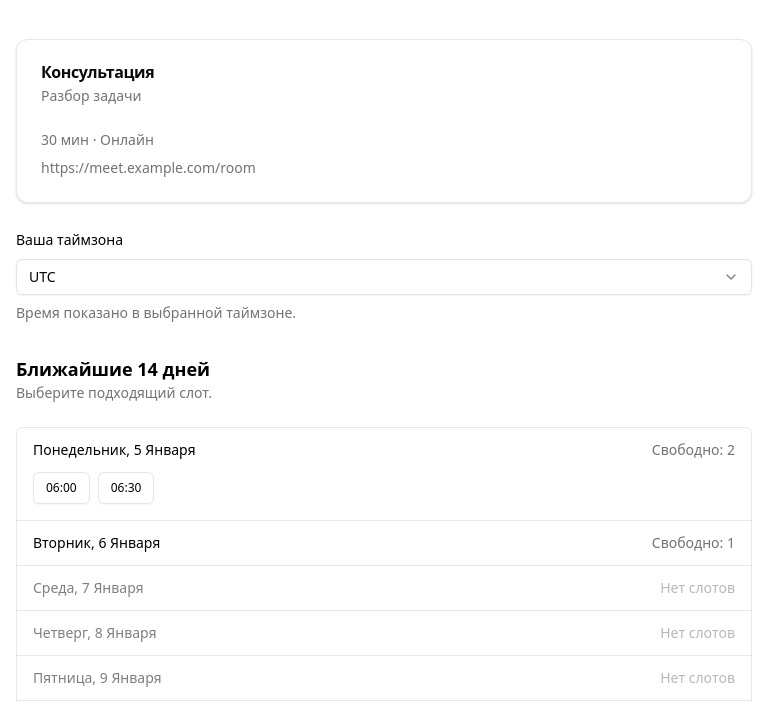
PublicBookingPage › shows a conflict message and refreshes slots
Click the button "06:00": [61, 488] box [33,472,90,504]
(page scrolled)
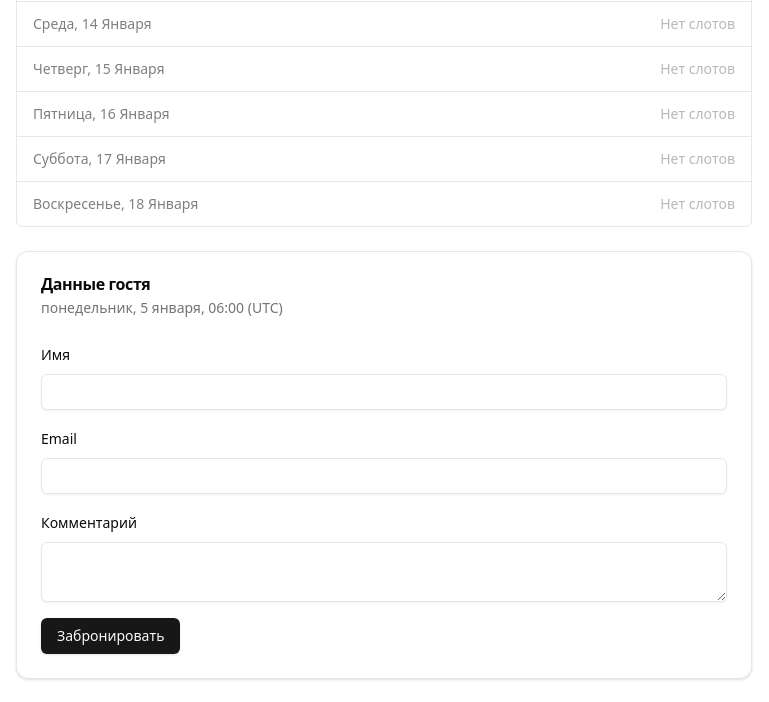
In the field labelled "Имя": [384, 392] box [41,374,727,410], type "Иван"
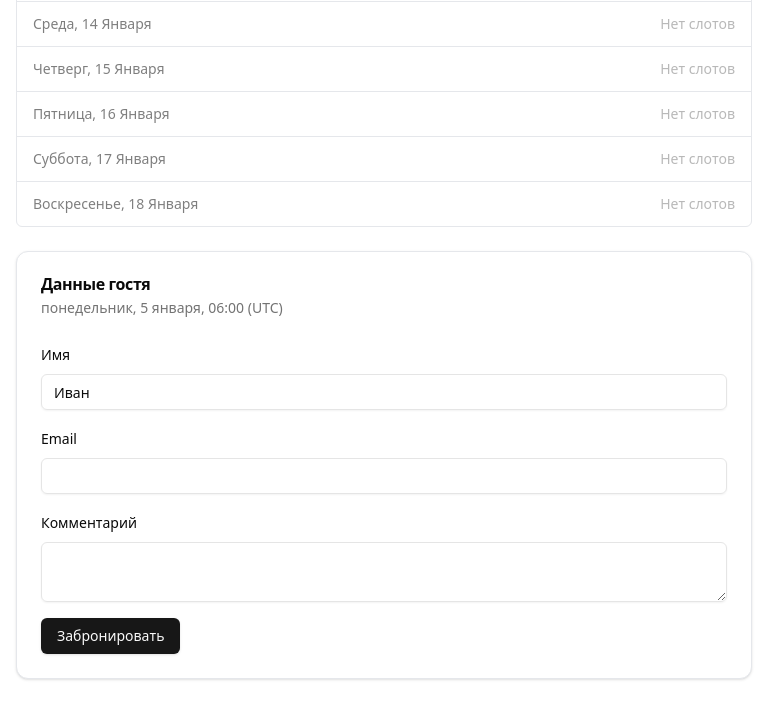
In the field labelled "Email": [384, 476] box [41,458,727,494], type "guest@example.com"
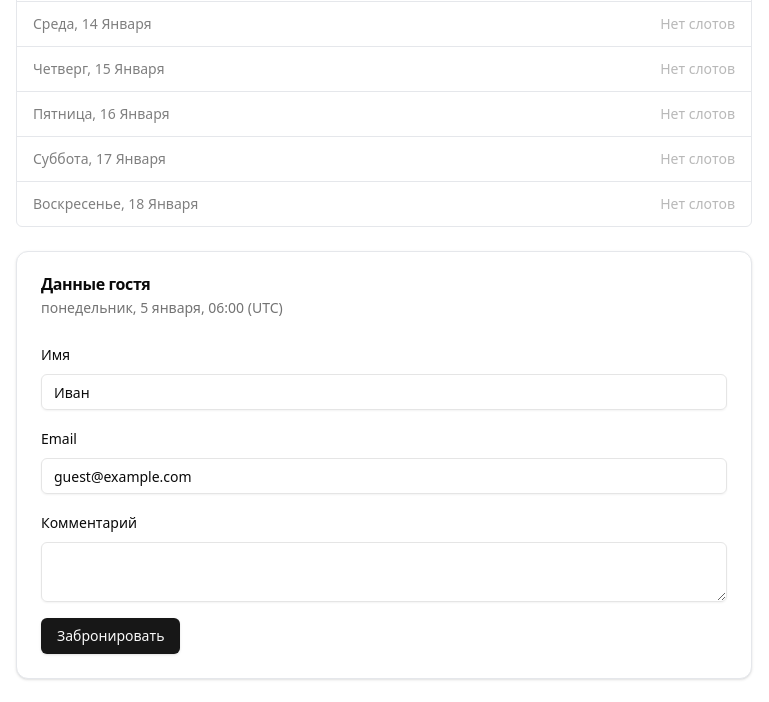
Click the button "Забронировать": [111, 636] box [41,618,180,654]
(page scrolled)
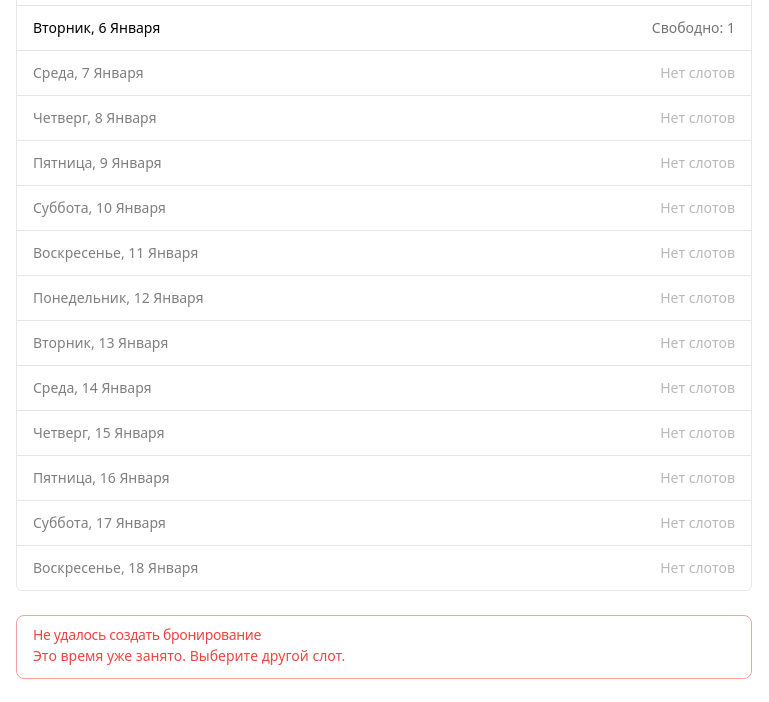
Expected: the text "Это время уже занято. Выберите другой слот." is shown, [33,646,345,665]
